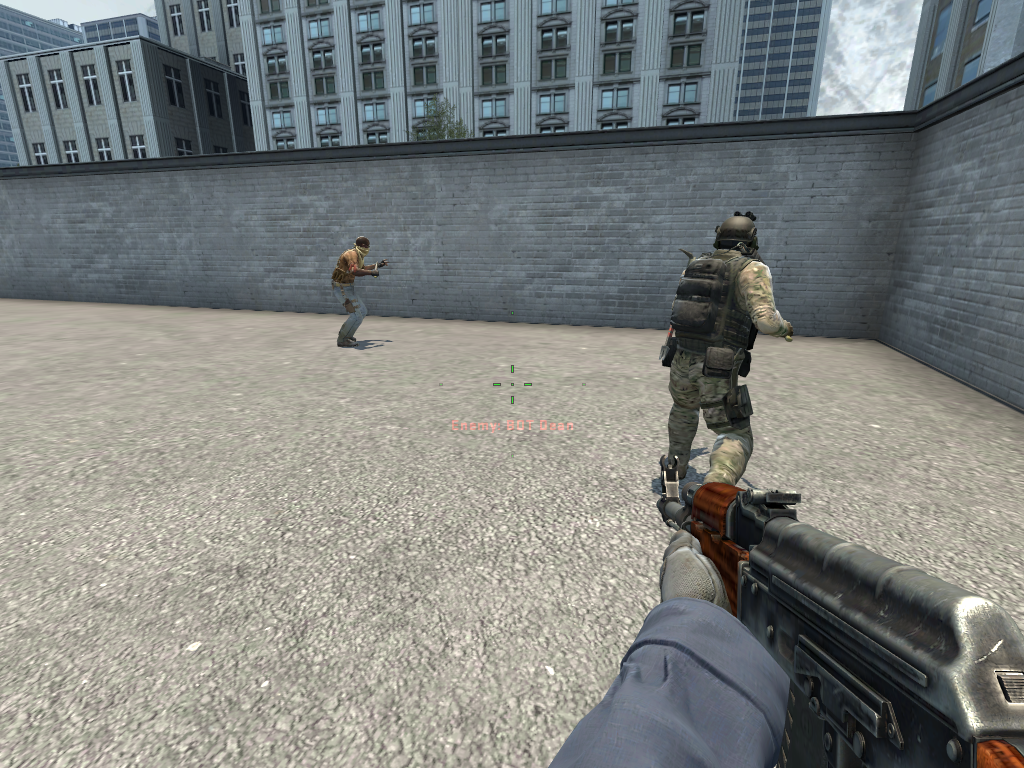ct head: (705, 207, 767, 264)
tr head: (352, 231, 371, 259)
